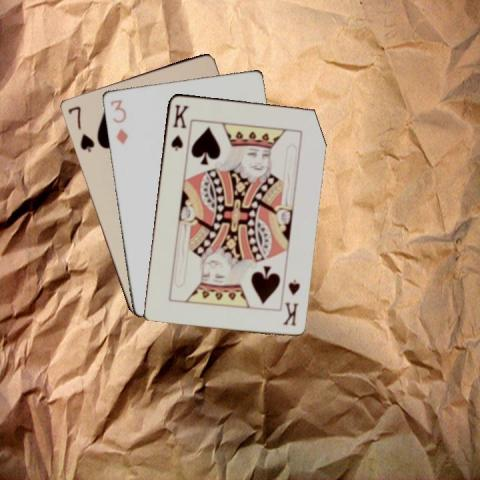3d: (107, 96, 129, 146)
7s: (65, 103, 95, 154)
Ks: (168, 101, 190, 152), (280, 276, 302, 327)
